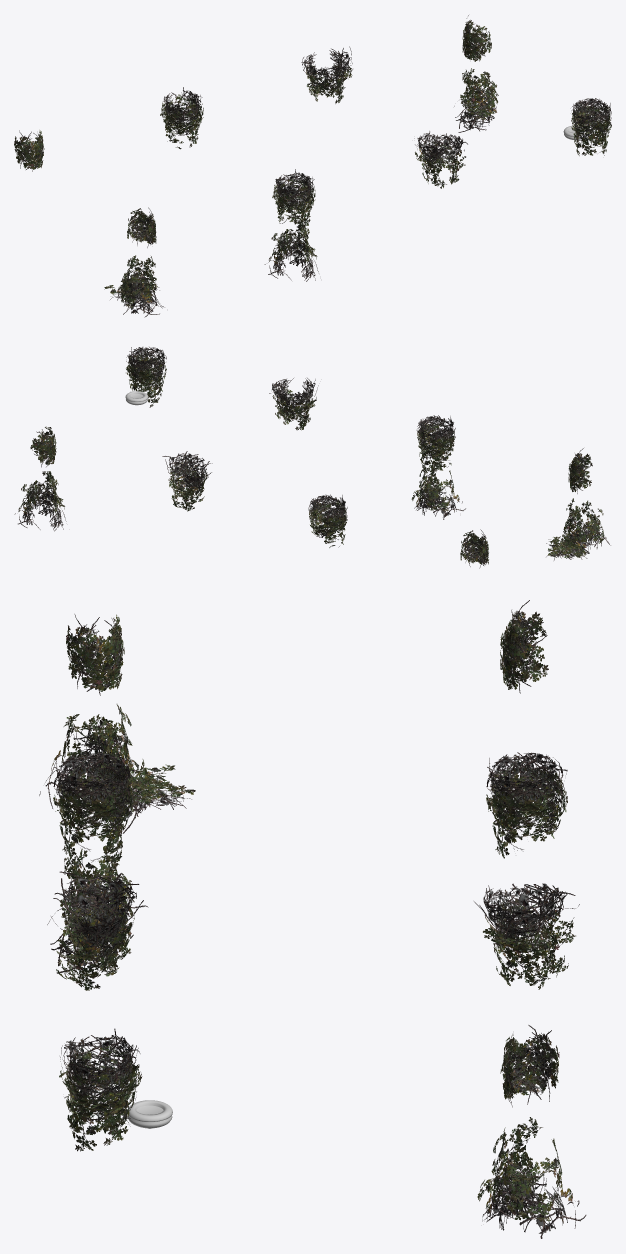
The model's file is Plants.obj.
3 views of the same model, one above another, from view 1: azimuth 30°, elevation 25°; view 2: azimuth 150°, elevation 25°; view 3: azimuth 270°, elevation 25° (orthographic). The views are drawn at different scales.
Parts seen in each view (by area): view 1: Plants_sponza_276; view 2: Plants_sponza_276; view 3: Plants_sponza_276.
Boxes of the visible parts, <box> form: Plants_sponza_276: <box>14,15,611,317</box>; Plants_sponza_276: <box>14,347,610,568</box>; Plants_sponza_276: <box>39,600,586,1238</box>.
Bounding box in the file's own units: 308 × 63.29 × 152.
